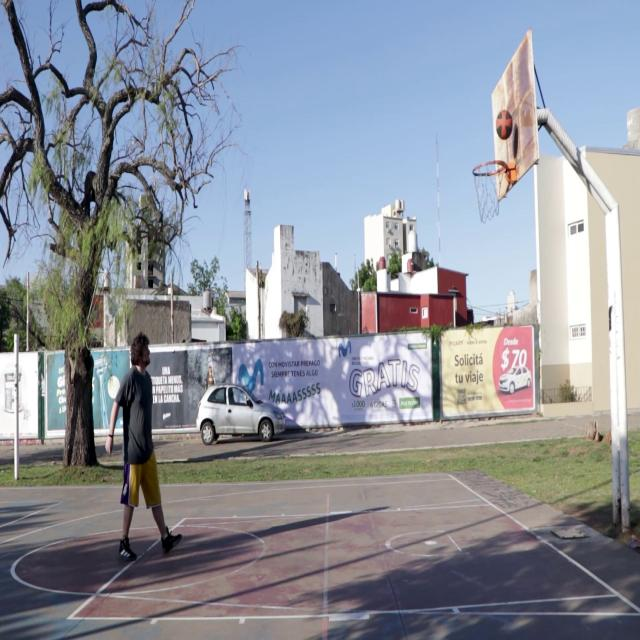ball: (496, 109, 513, 140)
